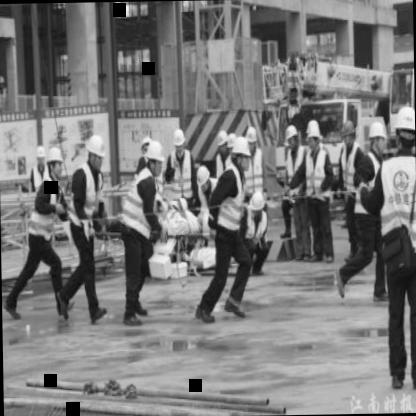helmet: (84, 132, 108, 173), (394, 105, 414, 150), (144, 139, 166, 179), (45, 142, 65, 183), (368, 118, 388, 158), (229, 135, 251, 171), (194, 160, 212, 196), (338, 116, 357, 150), (304, 118, 322, 152), (250, 186, 268, 218), (214, 127, 230, 162), (171, 125, 187, 155), (244, 121, 259, 152), (284, 123, 298, 152), (32, 145, 46, 170)
